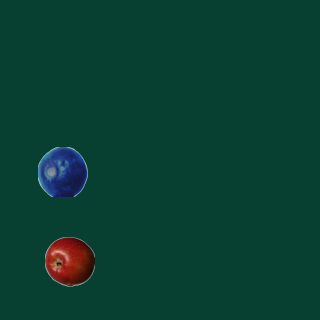Apple Braeburn: (44, 236, 94, 286)
Huckleberry: (37, 146, 87, 196)
